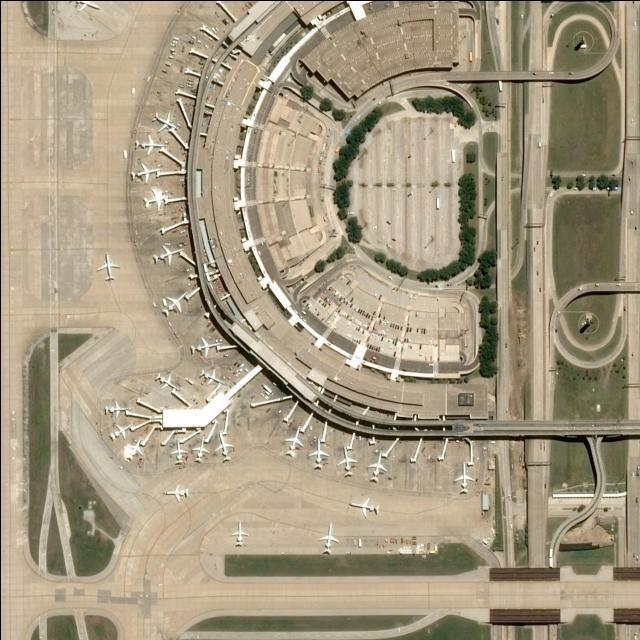Aircraft: (346, 495, 378, 519), (451, 466, 475, 498), (94, 252, 116, 286), (279, 431, 305, 459), (304, 442, 328, 472), (132, 133, 164, 155), (333, 449, 357, 478), (151, 109, 175, 137), (151, 245, 181, 267), (96, 400, 130, 419), (128, 162, 156, 184), (139, 190, 167, 211), (214, 430, 232, 462), (151, 372, 179, 392), (366, 456, 385, 484), (67, 0, 102, 15), (227, 519, 247, 545), (106, 421, 132, 441), (194, 368, 222, 386), (167, 440, 187, 464), (188, 338, 212, 358), (163, 483, 189, 501), (191, 435, 209, 461), (320, 526, 337, 552)
